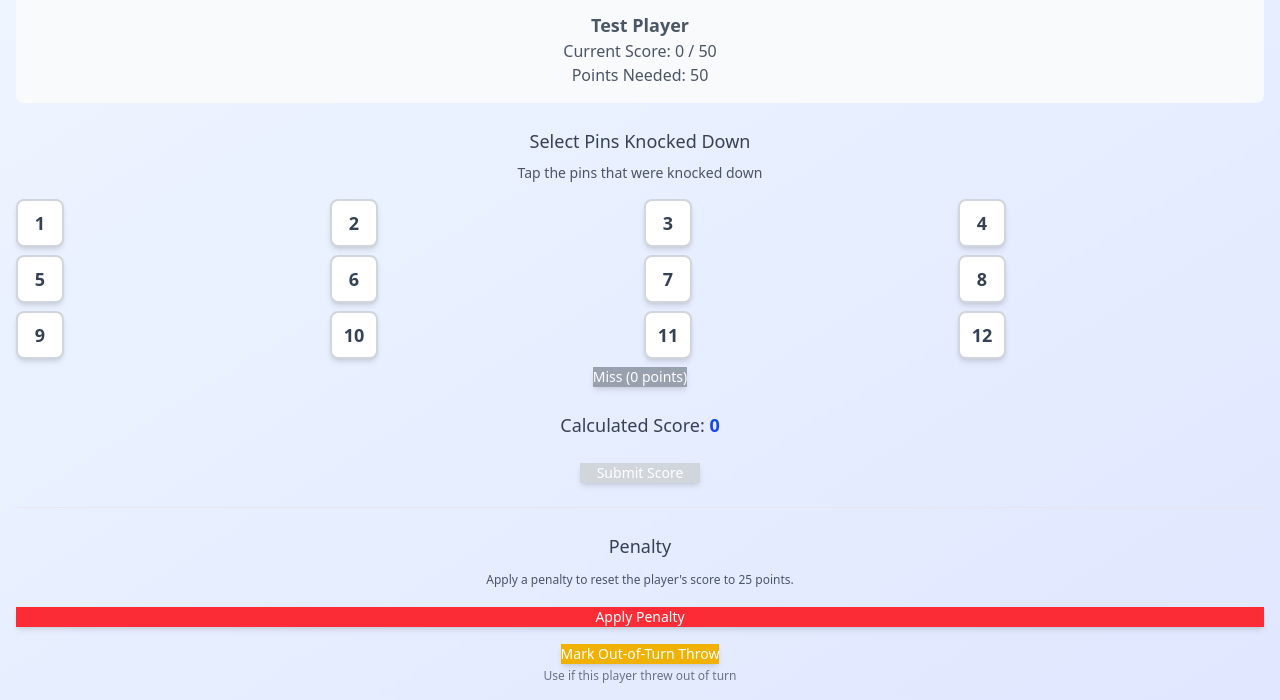
ScoreInput Component - New Interface › Penalty Functionality › should show penalty confirmation modal
(page scrolled)
Click the button "Apply Penalty" at (640, 617), box [16,607,1264,627]
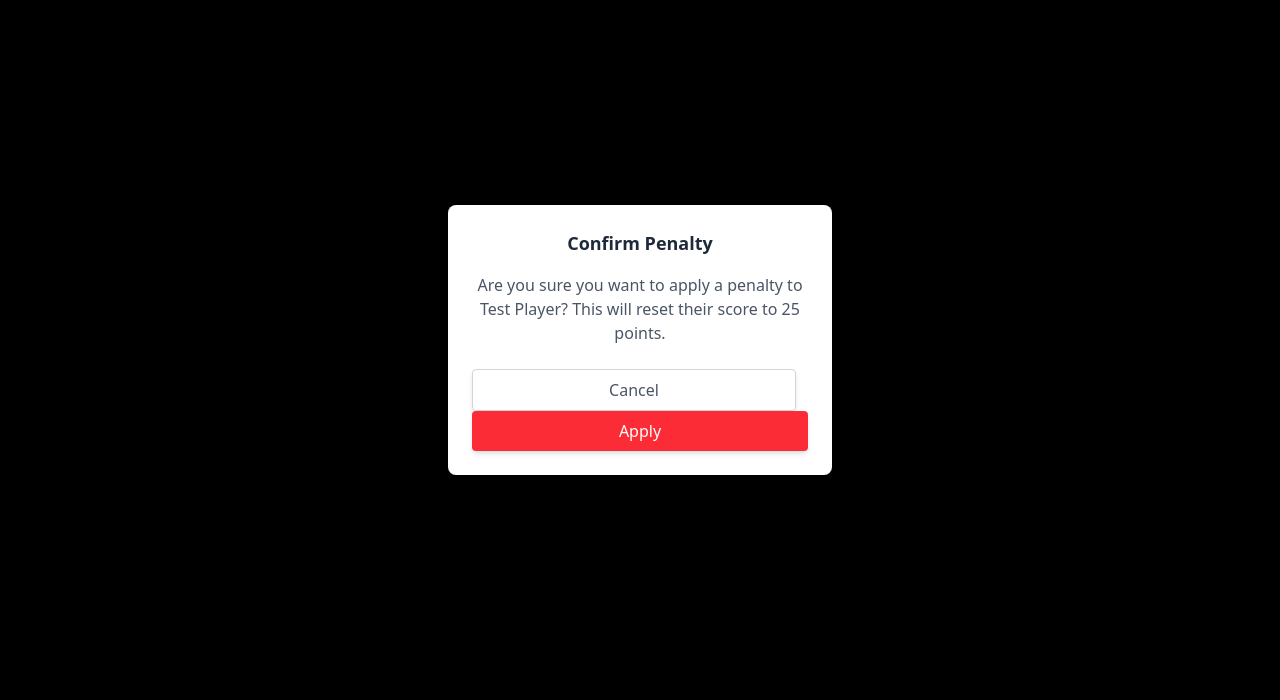
expect the button "Cancel" is shown: met, box [472,369,796,411]
expect the number of headings "Confirm Penalty" is 1: met, box [567,231,713,255]
